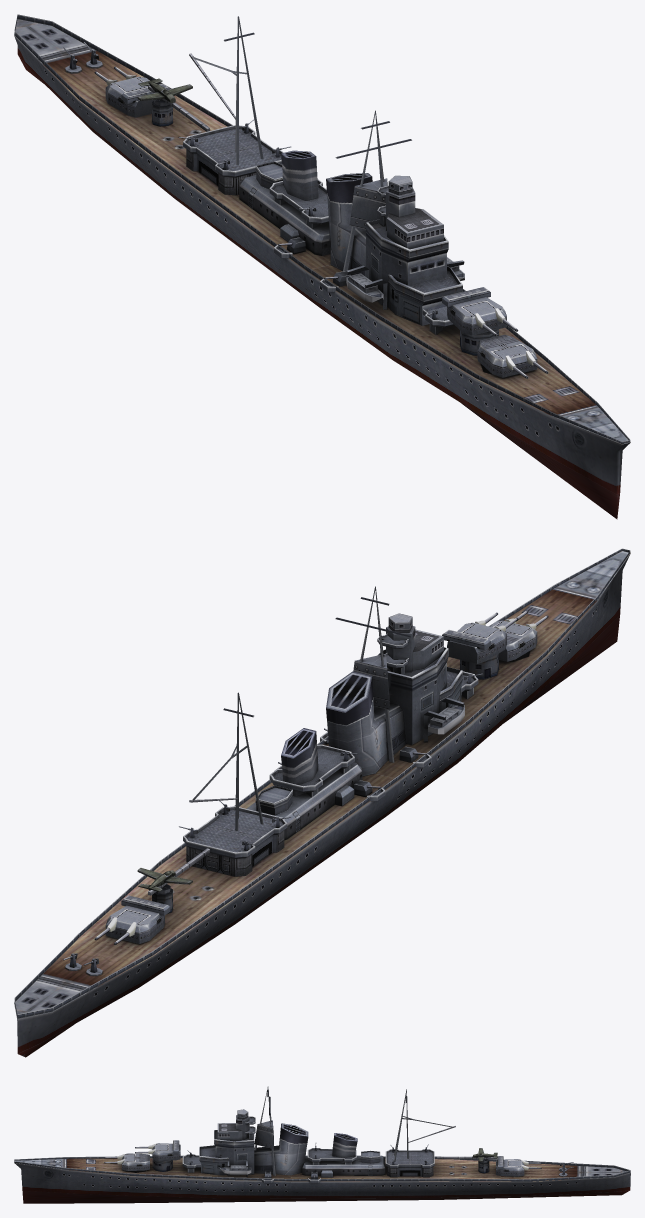
Rendered from Aoba.fbx.
3 views of the same model, one above another, from view 1: azimuth 30°, elevation 25°; view 2: azimuth 150°, elevation 25°; view 3: azimuth 270°, elevation 25° (orthographic). The views are drawn at different scales.
Parts seen in each view (by area): view 1: Body, M_Cannon02, M_Cannon01, M_Cannon03; view 2: Body, M_Cannon03, M_Cannon02, M_Cannon01; view 3: Body, M_Cannon02, M_Cannon03, M_Cannon01.
Boxes of the visible parts, x1,y1,x2,y2 form: Body: (14,14,630,519); M_Cannon02: (442,287,506,335); M_Cannon01: (477,334,537,377); M_Cannon03: (105,76,169,117); Body: (14,548,630,1057); M_Cannon03: (105,895,170,943); M_Cannon02: (442,622,506,663); M_Cannon01: (490,620,537,661); Body: (14,1086,630,1203); M_Cannon02: (152,1140,180,1160); M_Cannon03: (496,1156,524,1176); M_Cannon01: (122,1153,149,1170).
Bounding box in the file's own units: 18.3 × 39.03 × 186.
1 material, 1 textured.
